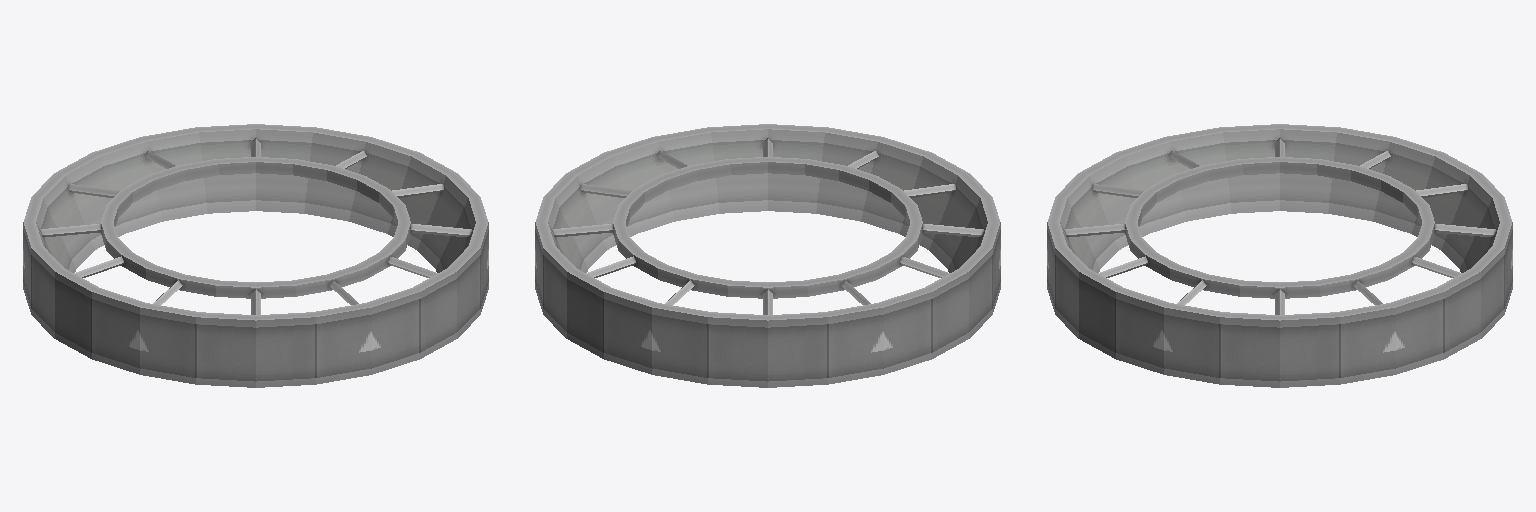
3 renders of one model, left to right at view 1: azimuth 30°, elevation 25°; view 2: azimuth 150°, elevation 25°; view 3: azimuth 270°, elevation 25°, orthographic.
Parts seen in each view (by area): view 1: Knight_Fairing_A; view 2: Knight_Fairing_A; view 3: Knight_Fairing_A.
Boxes of the visible parts, x1,y1,x2,y2 form: Knight_Fairing_A: [23, 124, 488, 387]; Knight_Fairing_A: [535, 124, 1000, 387]; Knight_Fairing_A: [1047, 124, 1512, 387].
Size of the model in its own units: 0.9375 by 0.15 by 0.9375.
1 materials, 1 textured.